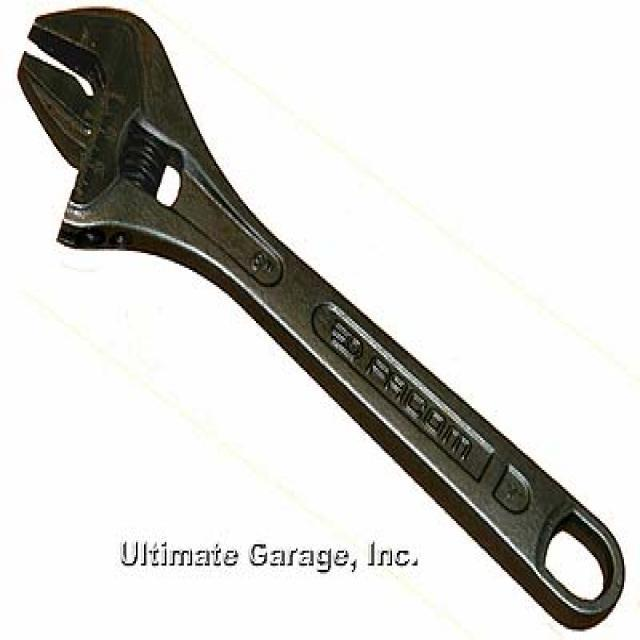wrench: (16, 0, 634, 617)
